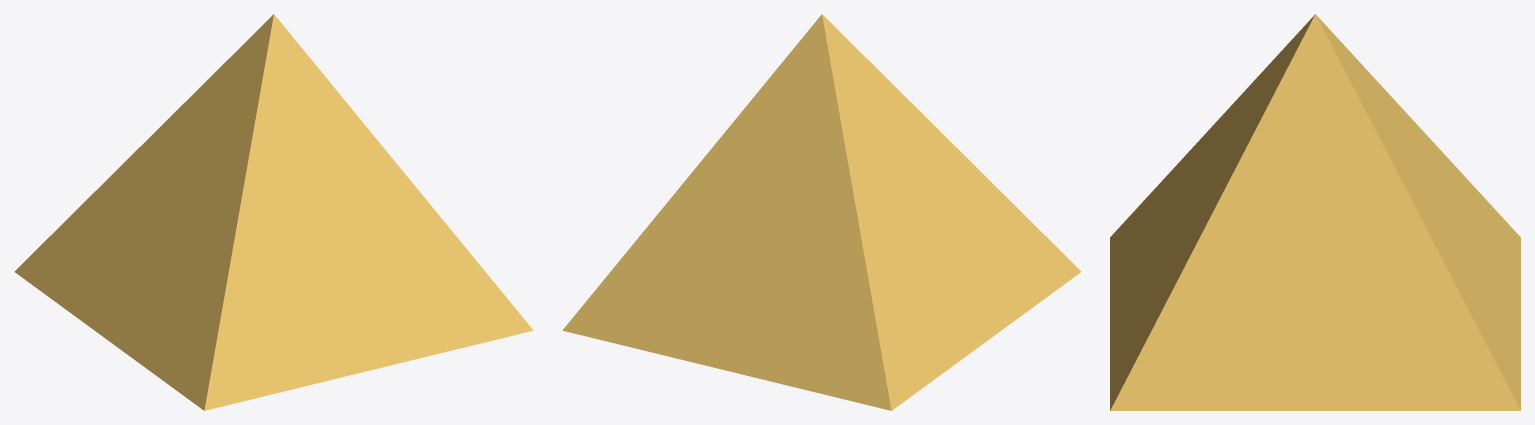
File: piramide.gltf
3 views of the same model, side by side, from view 1: azimuth 30°, elevation 25°; view 2: azimuth 150°, elevation 25°; view 3: azimuth 270°, elevation 25° (orthographic). The views are drawn at different scales.
Visible parts, largest first — view 1: Piramide; view 2: Piramide; view 3: Piramide.
Part boxes in pixels (x1,y1,x2,y2): Piramide: (14, 14, 533, 410); Piramide: (562, 14, 1081, 410); Piramide: (1110, 14, 1520, 410).
Size of the model in its own units: 1.2 by 1 by 1.2.
